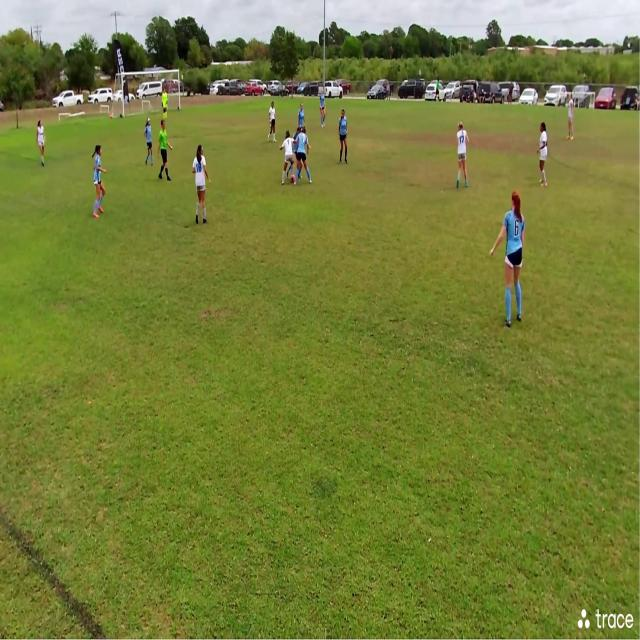ball: (290, 172, 296, 184)
team1: (490, 182, 530, 332), (91, 142, 107, 218), (297, 126, 312, 186), (338, 110, 351, 166), (143, 118, 154, 167), (318, 86, 327, 127), (298, 105, 306, 136)
team2: (193, 147, 211, 226), (455, 122, 469, 192), (538, 124, 552, 188), (281, 130, 296, 188), (38, 117, 49, 168), (567, 96, 577, 144), (269, 102, 278, 144)
